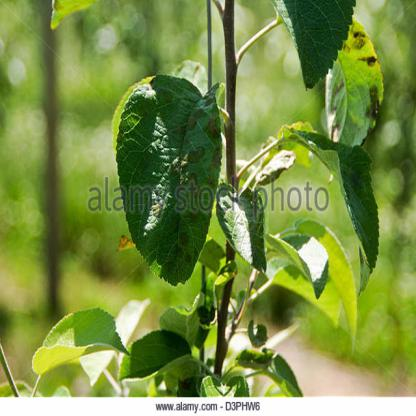apple scab leaf: (117, 64, 252, 304), (283, 109, 415, 314), (319, 22, 390, 162)
